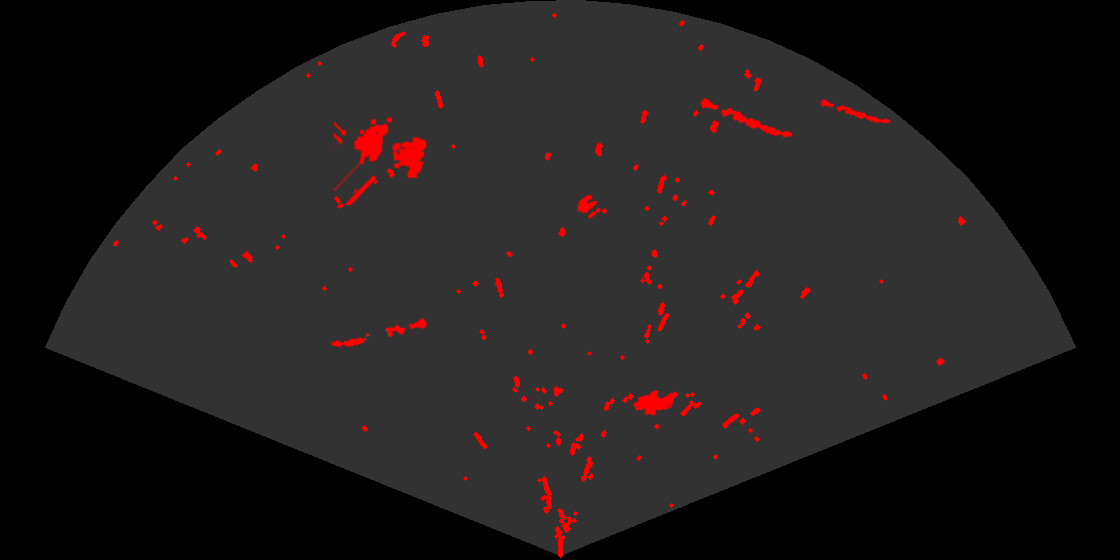AUV: (631, 389, 680, 417)
ball: (576, 193, 602, 220)
cage: (334, 115, 428, 205)
chain: (699, 96, 794, 139), (330, 317, 430, 349), (814, 97, 892, 125)
